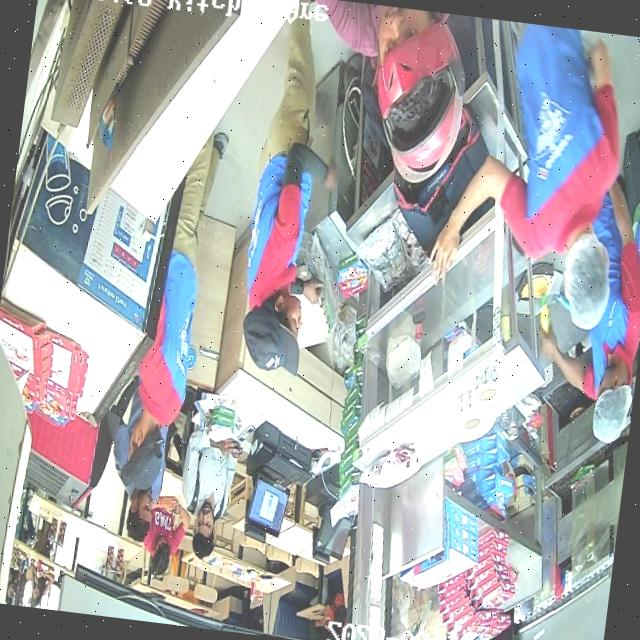helmet: (378, 17, 464, 182)
